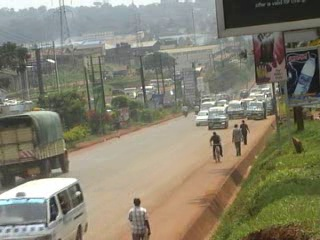Car: (194, 108, 208, 127)
Motorcycle: (180, 102, 188, 118), (193, 103, 200, 115)
